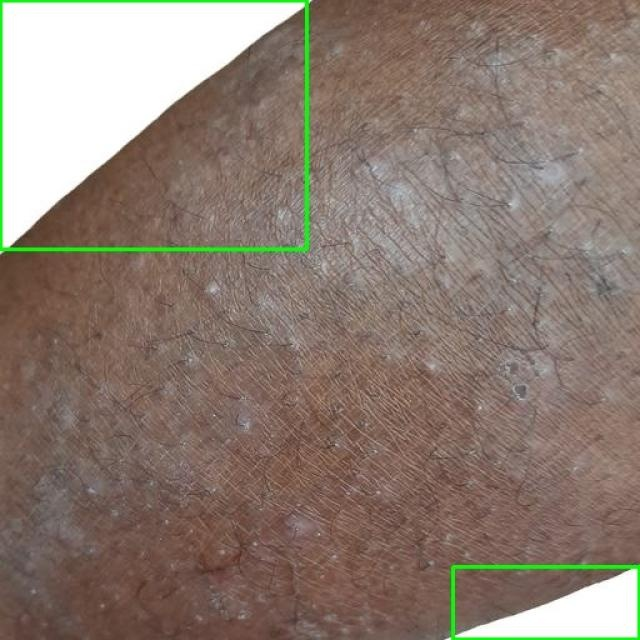Scabies: (0, 0, 306, 249), (452, 566, 639, 639)
